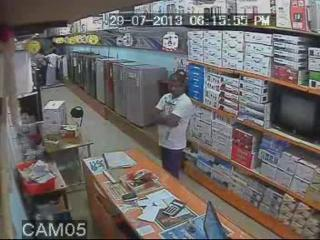Normal: (153, 70, 195, 181), (270, 87, 320, 147)
